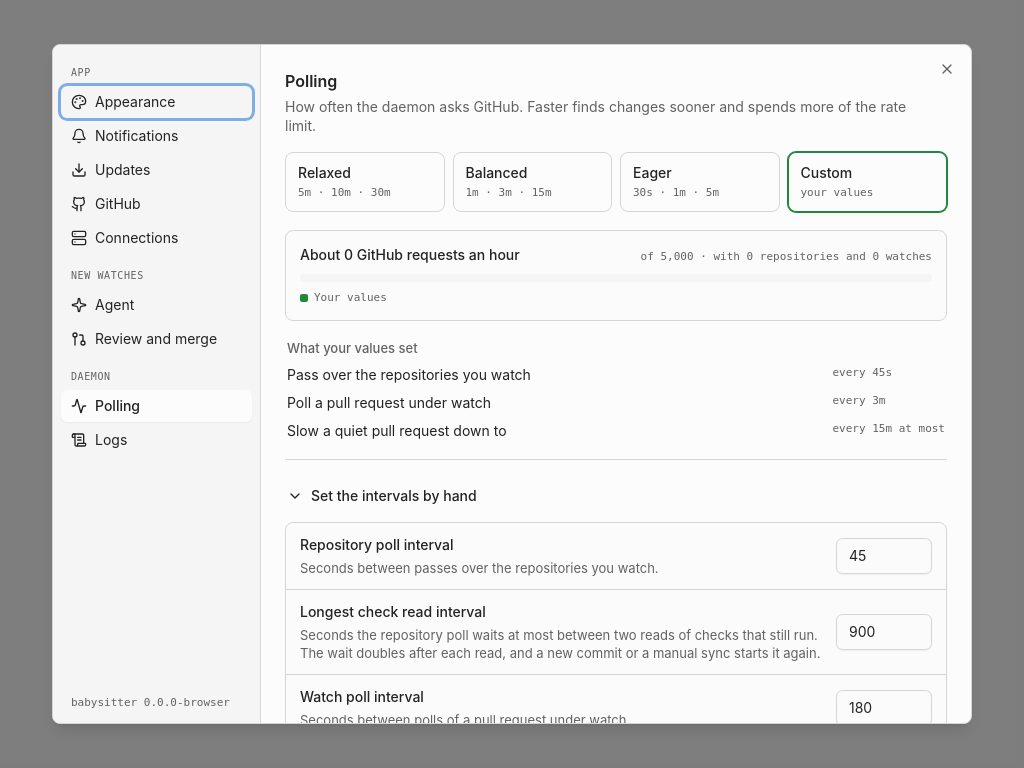
Test: a number still waiting when you leave its page is saved, and the navigation says so
This screenshot has width=1024, height=768.
Clear the number field labelled "Watch poll interval". click: (884, 708)
box: [836,690,932,726]
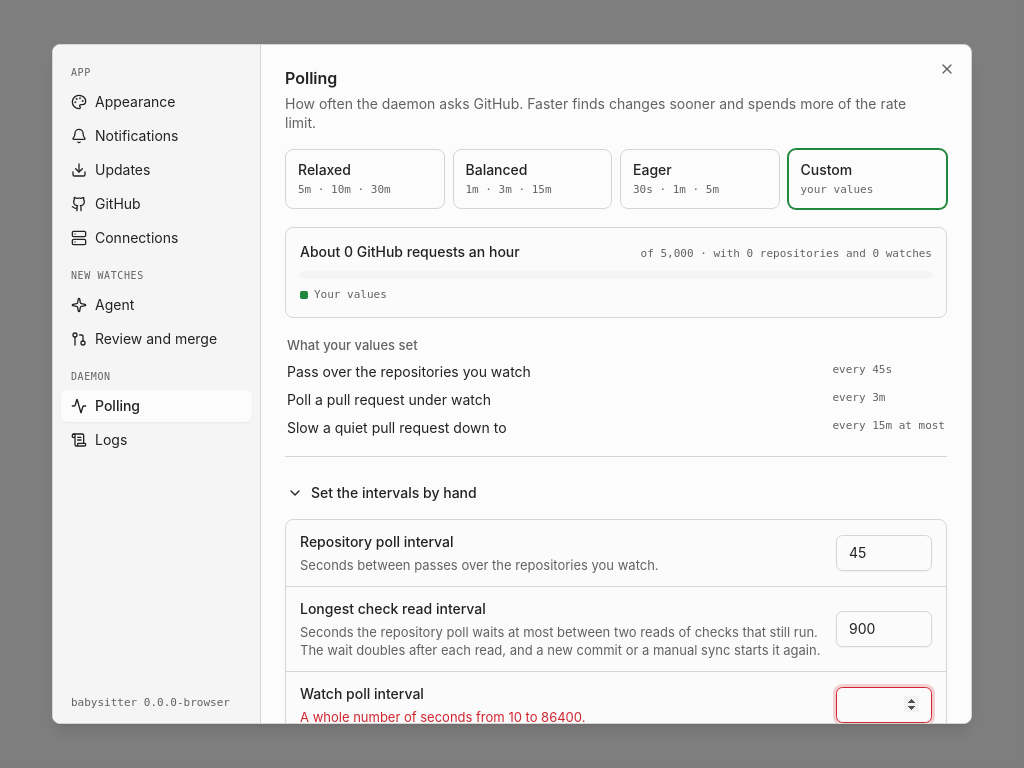
Type "90" into the number field labelled "Watch poll interval". click: (884, 704)
box: [836,686,932,722]
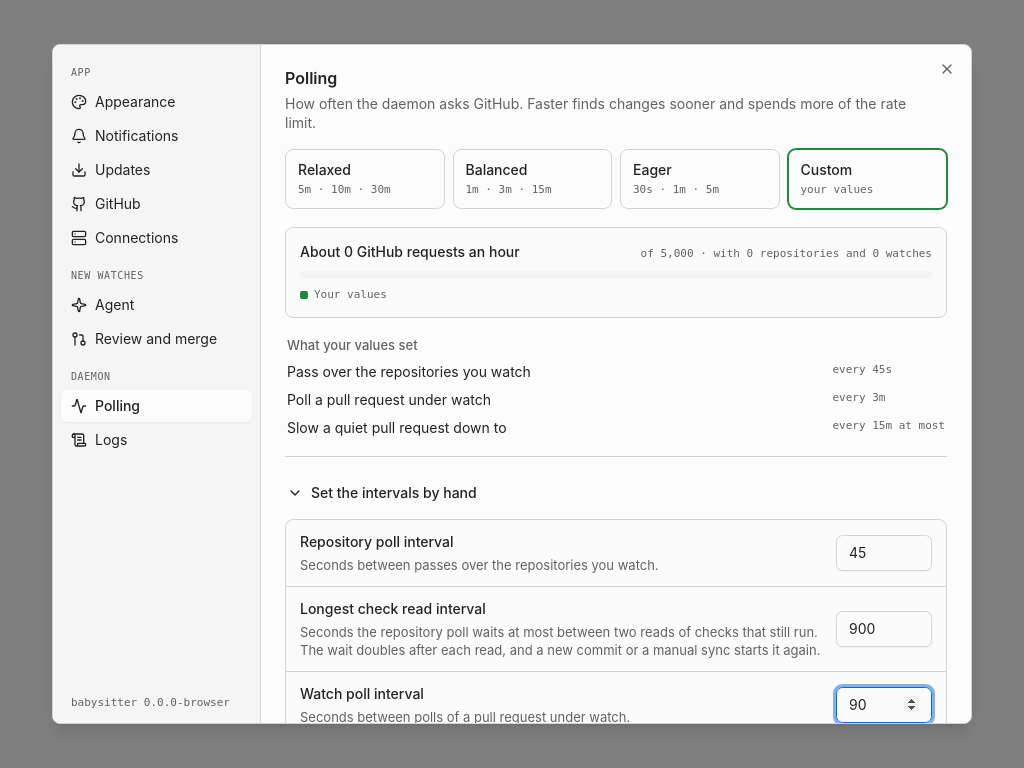
Click the button "Logs". click: click(156, 440)
box: [61,424,252,456]
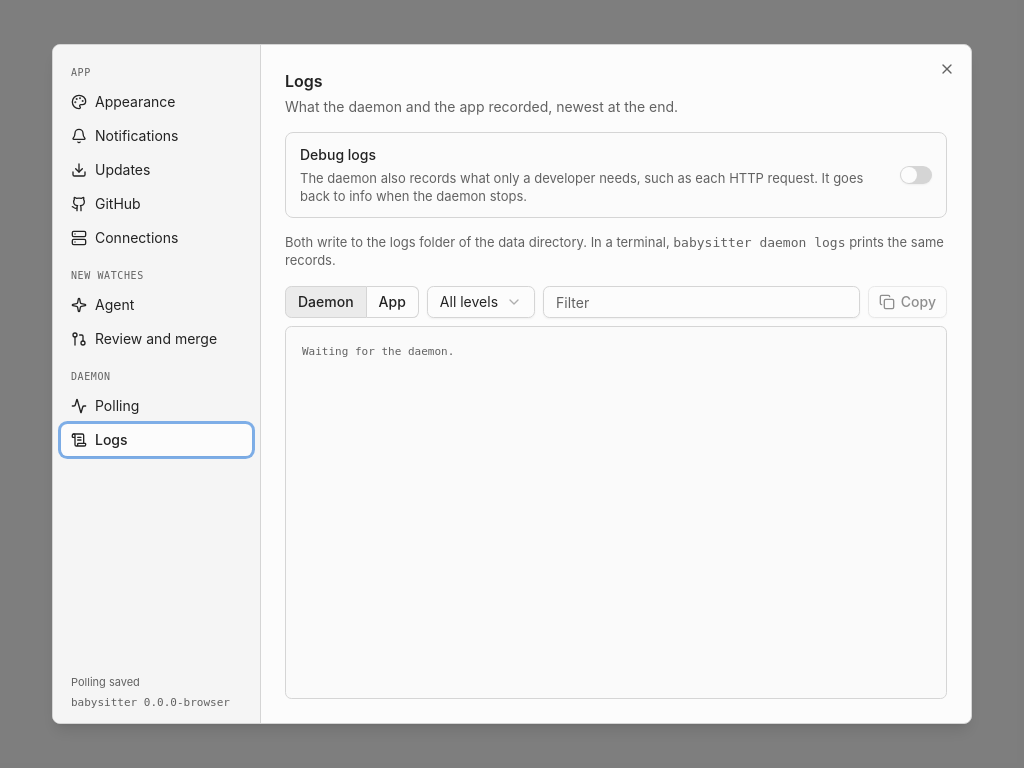
expect the text "Polling saved" is shown: met, box [71,675,140,689]
expect the heading "Logs" is shown: met, box [285,71,323,91]
